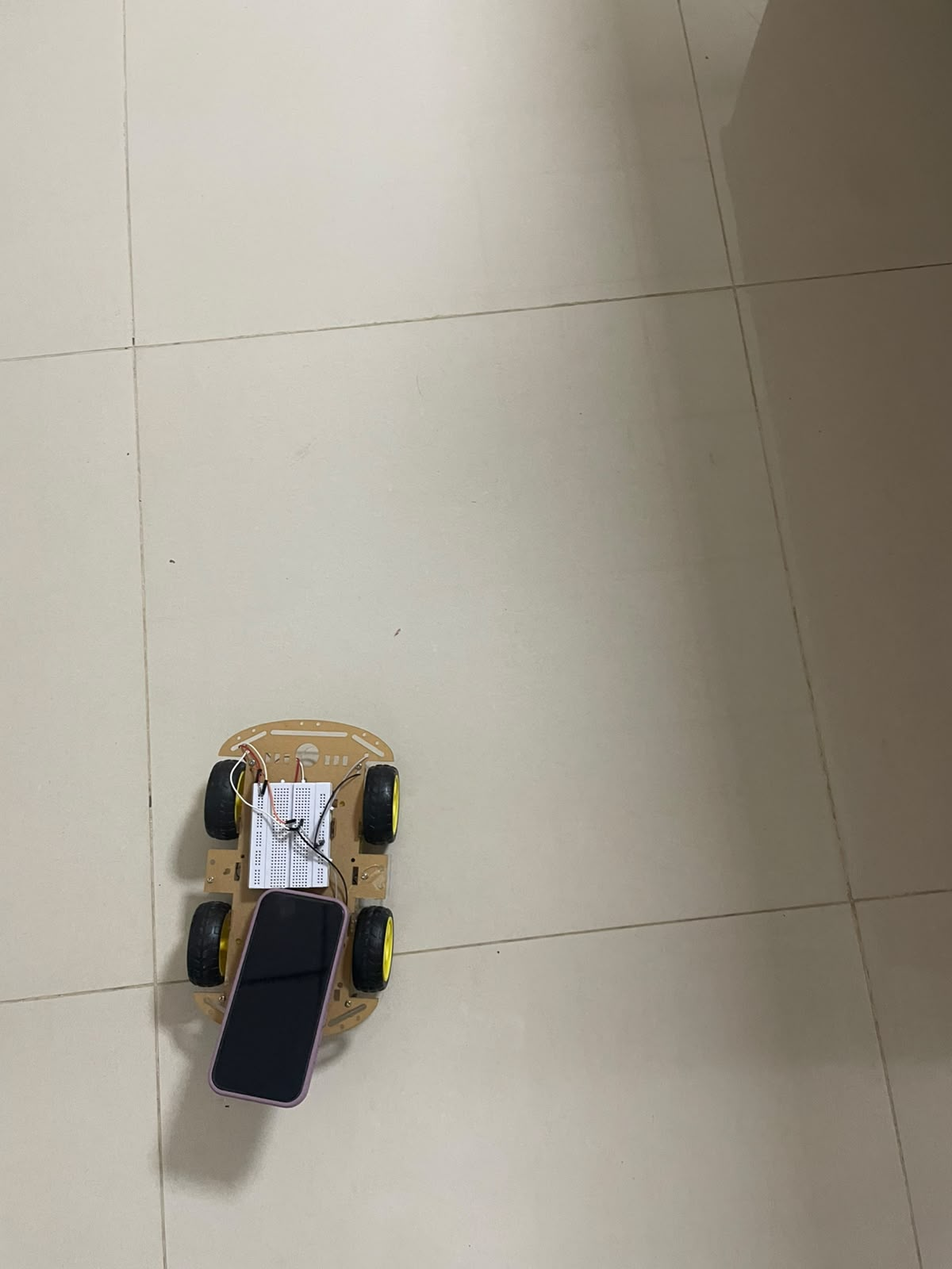Rover: (186, 719, 400, 1107)
